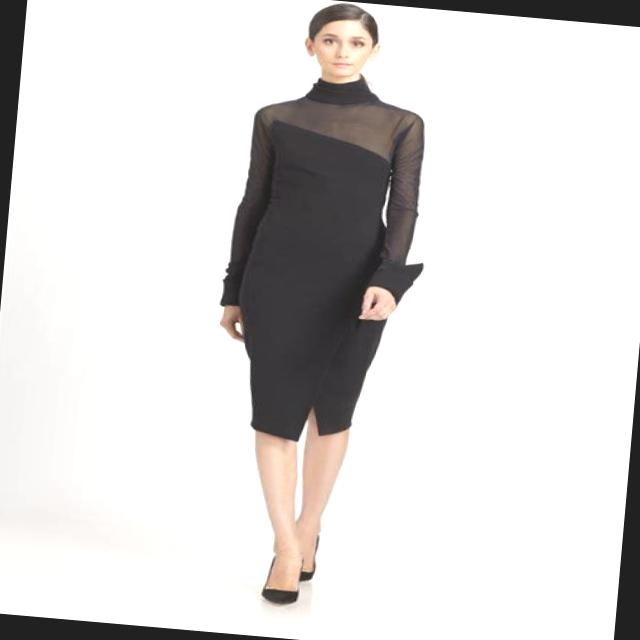dress: (208, 63, 442, 450)
